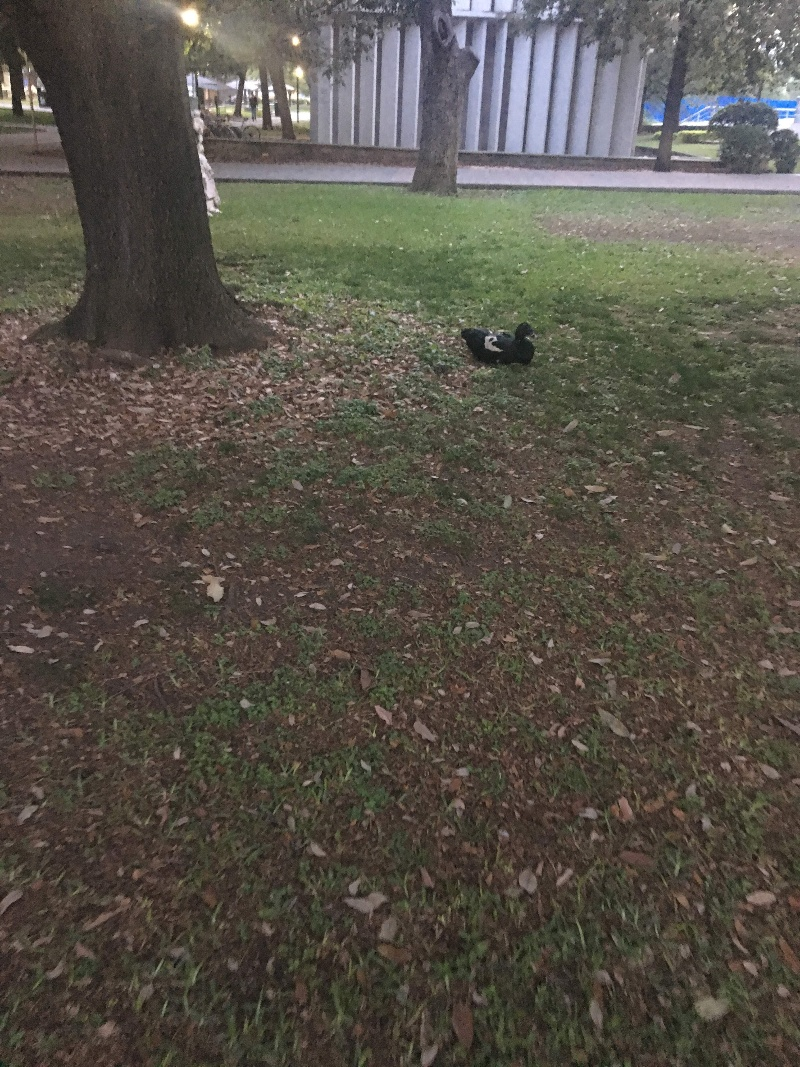pato: (456, 324, 541, 377)
